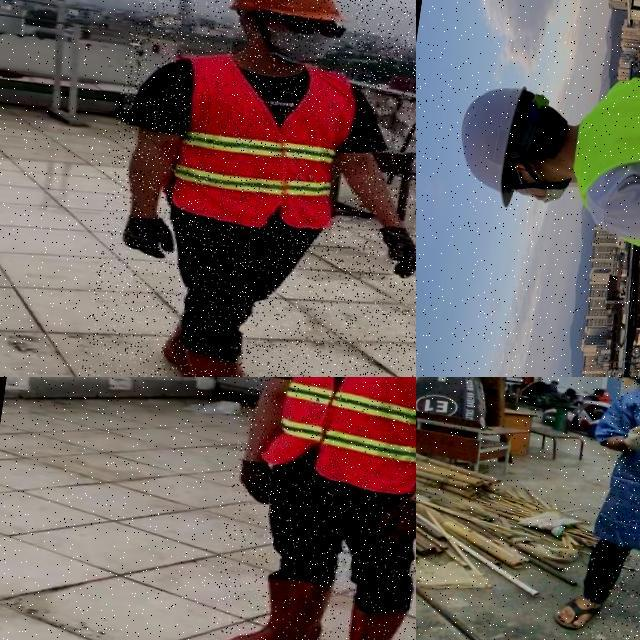boots: (224, 571, 335, 640), (171, 348, 294, 377), (157, 306, 207, 377), (322, 601, 408, 640)
helmet: (437, 65, 540, 232), (217, 0, 351, 26)
vest: (158, 50, 354, 236), (260, 377, 416, 495), (558, 61, 640, 262)
